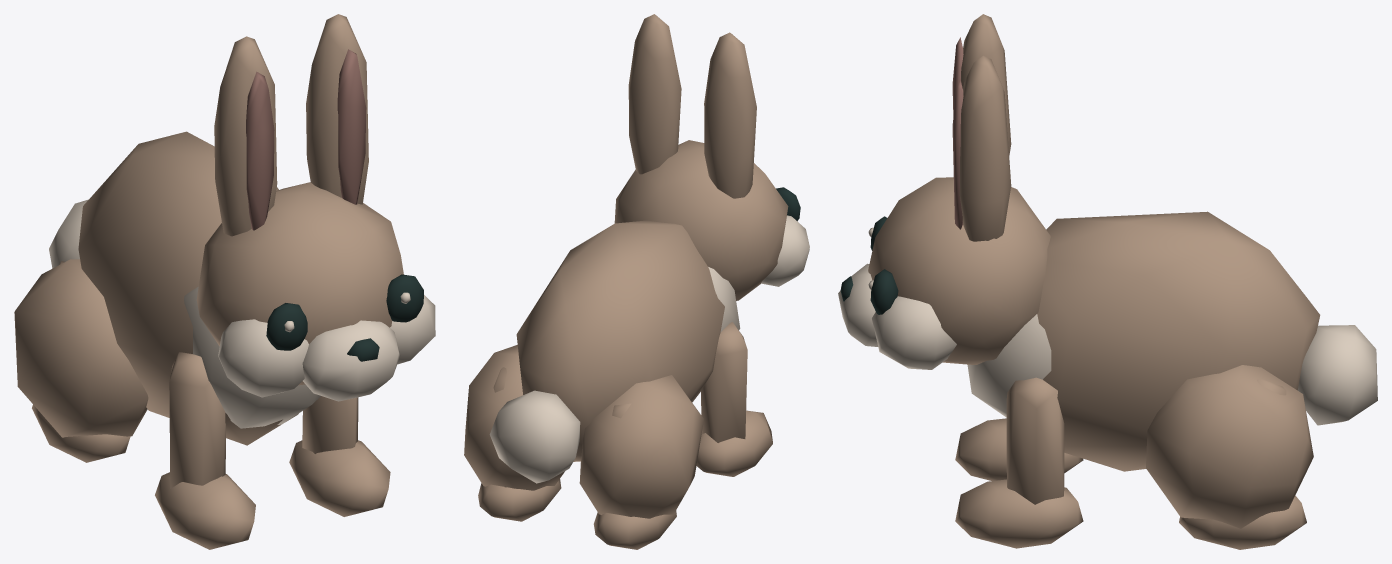
The model's file is org_rabbit.glb.
3 renders of one model, left to right at view 1: azimuth 30°, elevation 25°; view 2: azimuth 150°, elevation 25°; view 3: azimuth 270°, elevation 25°, orthographic. The views are drawn at different scales.
Parts seen in each view (by area): view 1: Head, Body, Leg_FR, Leg_FL, Leg_BR, Eye_R, Eye_L, Tail; view 2: Body, Head, Leg_FR, Tail, Leg_BL, Leg_BR; view 3: Body, Head, Leg_FL, Tail, Leg_BL, Leg_FR, Eye_L.
Boxes of the visible parts, bbox=[...] form: Head: bbox=[196, 14, 435, 401]; Body: bbox=[14, 131, 320, 445]; Leg_FR: bbox=[155, 352, 255, 549]; Leg_FL: bbox=[289, 396, 390, 516]; Leg_BR: bbox=[32, 261, 130, 462]; Eye_R: bbox=[266, 303, 307, 350]; Eye_L: bbox=[386, 274, 423, 322]; Tail: bbox=[49, 199, 88, 268]; Body: bbox=[464, 220, 740, 518]; Head: bbox=[614, 14, 809, 300]; Leg_FR: bbox=[696, 322, 772, 476]; Tail: bbox=[489, 390, 580, 483]; Leg_BL: bbox=[478, 367, 561, 521]; Leg_BR: bbox=[593, 403, 676, 549]; Body: bbox=[967, 211, 1320, 528]; Head: bbox=[838, 14, 1050, 369]; Leg_FL: bbox=[955, 377, 1083, 548]; Tail: bbox=[1298, 325, 1377, 425]; Leg_BL: bbox=[1179, 379, 1306, 549]; Leg_FR: bbox=[955, 418, 1083, 480]; Eye_L: bbox=[868, 269, 898, 314].
Bounding box in the file's own units: 0.2736 × 0.4986 × 0.513.
